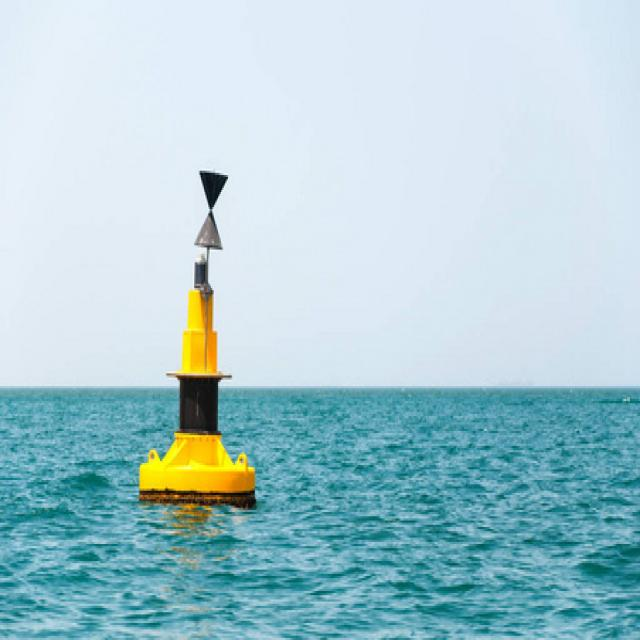buoy: (137, 165, 259, 503)
